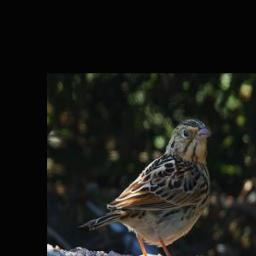Sparrow: (76, 112, 218, 256)
